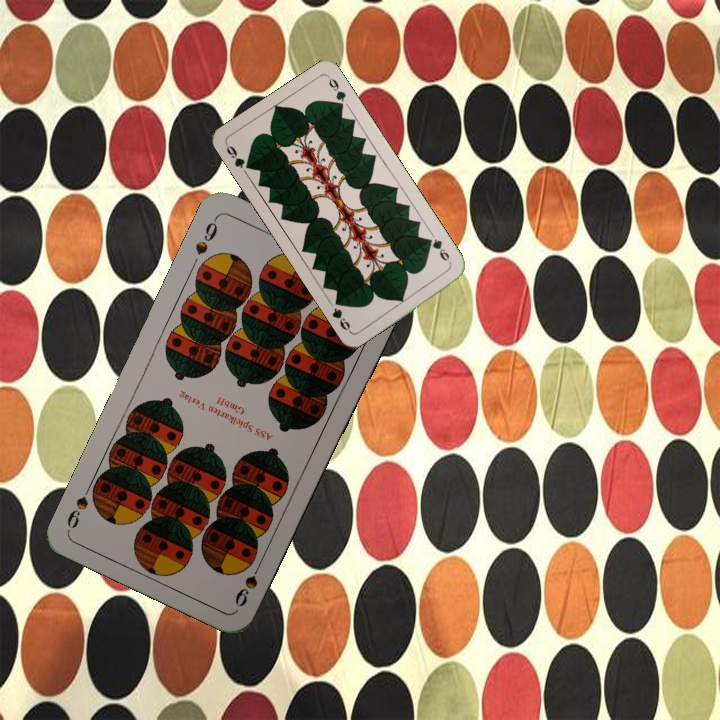G9: (222, 140, 255, 172), (423, 234, 454, 268)
S9: (230, 555, 266, 610), (191, 213, 220, 258)
